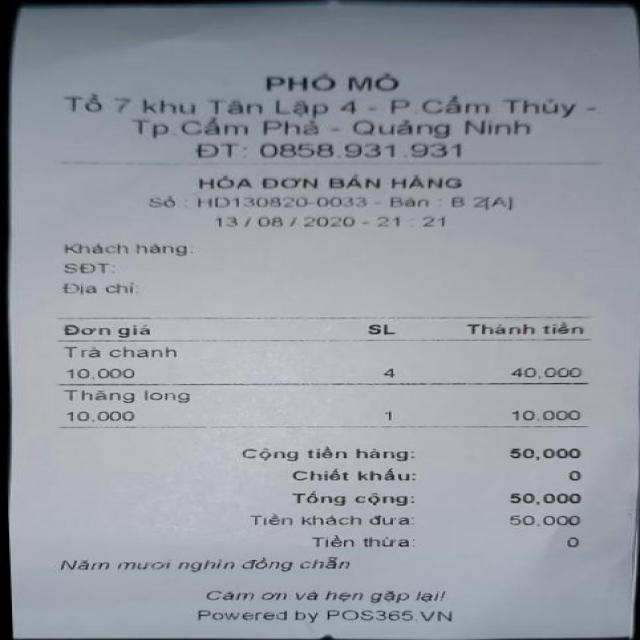Date: (204, 214, 358, 233)
Store_Name: (226, 56, 432, 96)
Total_Amount: (92, 483, 589, 509)
